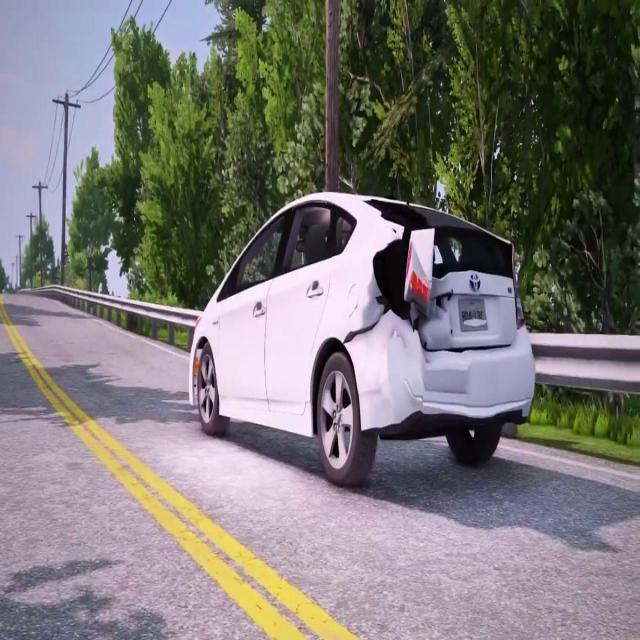vehicle: (107, 114, 580, 462)
